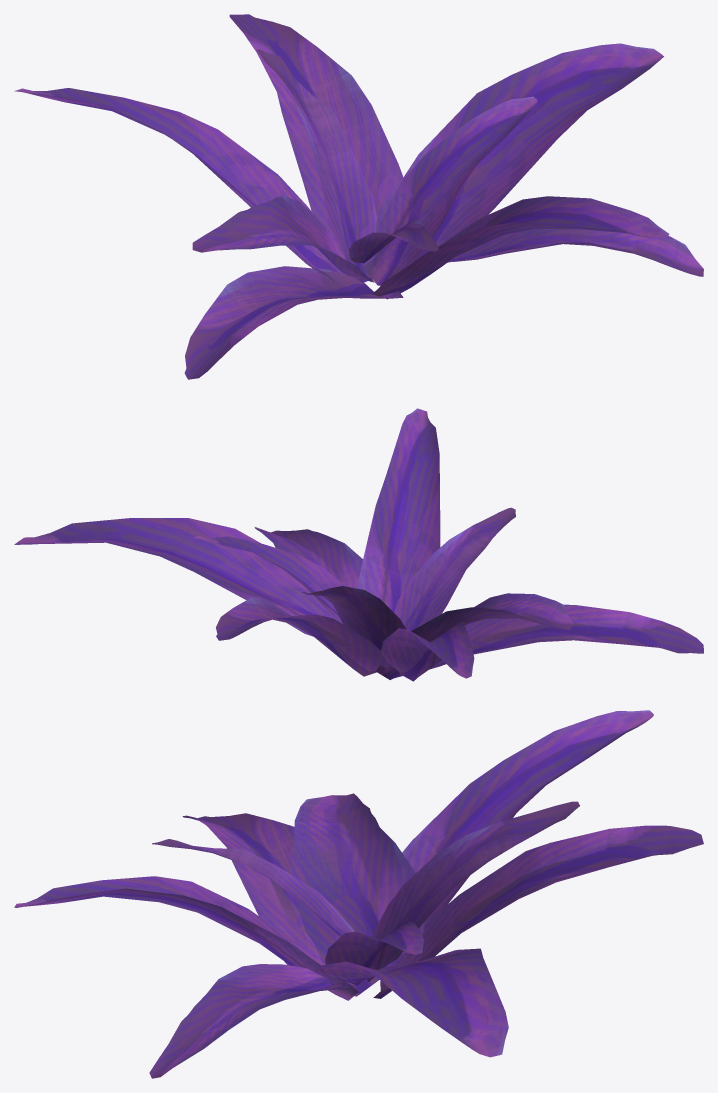
File: touffe_violette3.fbx
3 renders of one model, top to bottom at view 1: azimuth 30°, elevation 25°; view 2: azimuth 150°, elevation 25°; view 3: azimuth 270°, elevation 25°, orthographic. The views are drawn at different scales.
Parts seen in each view (by area): view 1: Plane.032, Plane.037, Plane.036, Plane.033, Plane.031, Plane.035, Plane.039, Plane.038, Plane.034, Plane.040; view 2: Plane.032, Plane.035, Plane.033, Plane.040, Plane.037, Plane.038, Plane.031, Plane.034, Plane.039, Plane.036; view 3: Plane.038, Plane.037, Plane.031, Plane.032, Plane.034, Plane.035, Plane.039, Plane.033, Plane.040, Plane.036.
Part boxes in pixels (x1,y1,x2,y2): Plane.032: [403, 43, 663, 259]; Plane.037: [229, 14, 403, 254]; Plane.036: [364, 96, 537, 285]; Plane.033: [184, 266, 403, 379]; Plane.031: [14, 88, 347, 281]; Plane.035: [372, 196, 669, 299]; Plane.039: [256, 49, 376, 282]; Plane.038: [192, 195, 374, 282]; Plane.034: [448, 229, 703, 276]; Plane.040: [349, 219, 438, 263]; Plane.032: [14, 518, 337, 636]; Plane.035: [357, 408, 440, 612]; Plane.033: [394, 604, 703, 678]; Plane.040: [394, 507, 515, 630]; Plane.037: [216, 597, 392, 676]; Plane.038: [376, 593, 573, 679]; Plane.031: [381, 620, 474, 681]; Plane.034: [254, 527, 362, 588]; Plane.039: [301, 586, 406, 650]; Plane.036: [193, 536, 345, 623]; Plane.038: [291, 793, 425, 954]; Plane.037: [373, 825, 703, 998]; Plane.031: [402, 710, 653, 929]; Plane.032: [315, 948, 508, 1057]; Plane.034: [149, 964, 347, 1078]; Plane.035: [14, 876, 358, 1000]; Plane.039: [367, 801, 579, 981]; Plane.033: [182, 813, 379, 996]; Plane.040: [152, 839, 354, 936]; Plane.036: [325, 921, 424, 985].
Bounding box in the file's own units: 311 × 85.74 × 286.
Materials: 1 (1 with a texture image).
